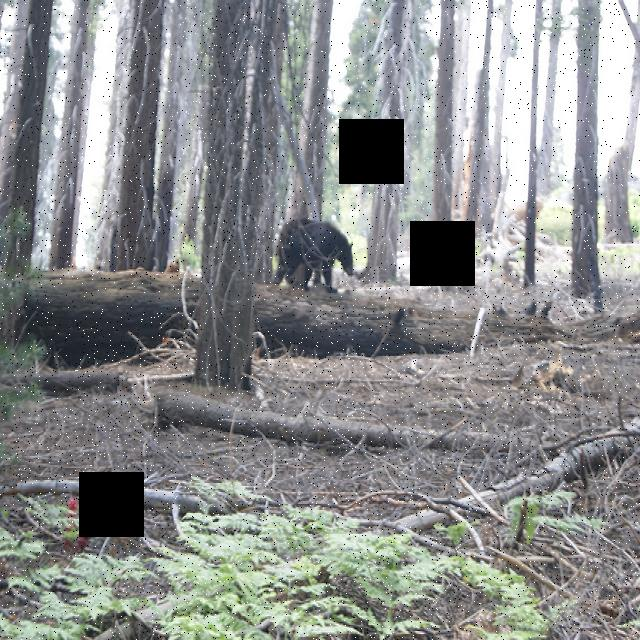Bear: (266, 211, 358, 283)
